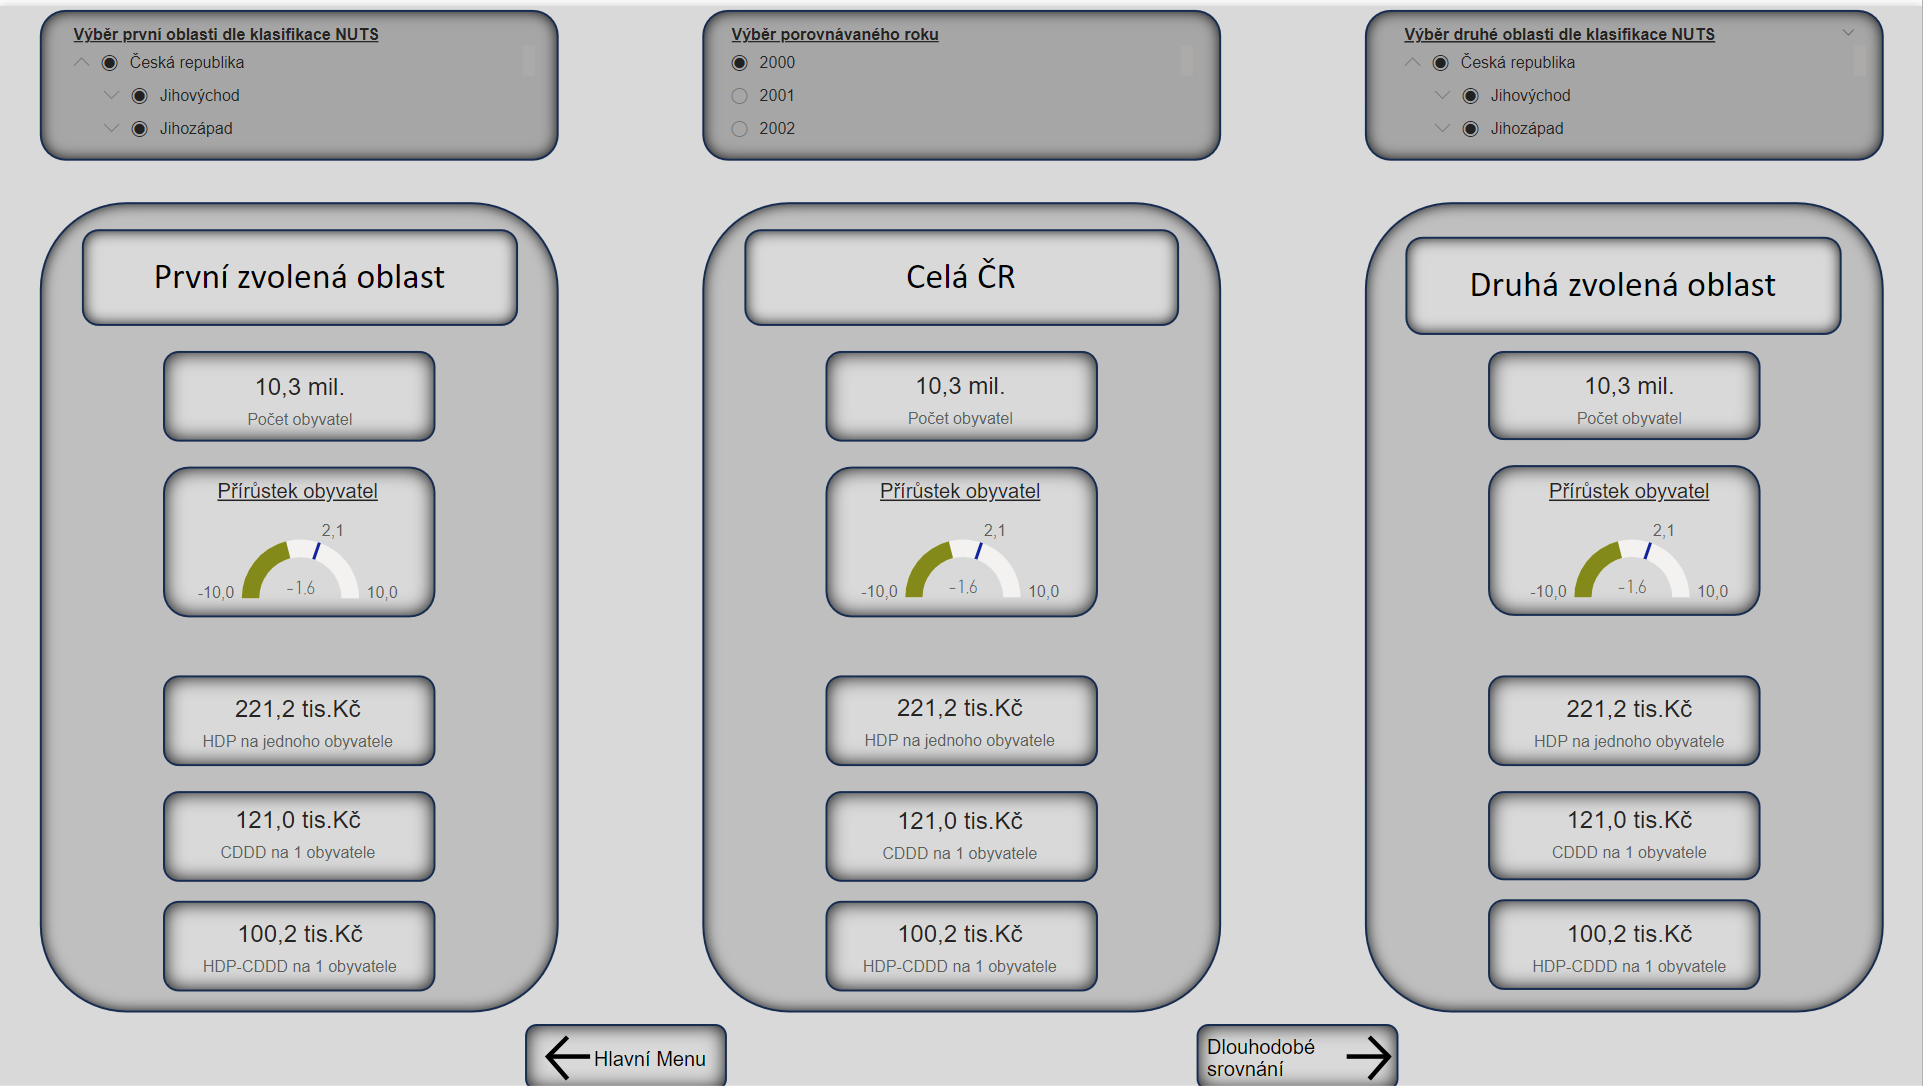

This screenshot's page, from the dashboard's own definition file:
{"tool":"powerbi","page":{"name":"Jednoroční srovnání","canvas":[1280,720],"ordinal":1},"visuals":[{"type":"slicer","fields":{"Values":["NUTS_hierarchie.Nuts_hierarchie.NUTS 1","NUTS_hierarchie.Nuts_hierarchie.NUTS 2","NUTS_hierarchie.Nuts_hierarchie.NUTS 3"]},"box":[36.7,7.3,325.3,88],"z":0},{"type":"slicer","fields":{"Values":["Rok.Rok"]},"box":[474.7,7.3,325,88],"z":1000},{"type":"slicer","fields":{"Values":["NUTS_hierarchie.Nuts_hierarchie.NUTS 1","NUTS_hierarchie.Nuts_hierarchie.NUTS 2","NUTS_hierarchie.Nuts_hierarchie.NUTS 3"]},"box":[922.7,7.3,325.3,88],"z":2000},{"type":"card","fields":{"Values":["Kraj_cddd.CDDD na 1 obyvatele"]},"box":[114,524,170,50.7],"z":3000},{"type":"card","fields":{"Values":["Kraj_HDP.HDP na jednoho obyvatele"]},"box":[114,450,170,50],"z":4000},{"type":"card","fields":{"Values":["Kraj_cddd.HDP-CDDD na 1 obyvatele"]},"box":[115.3,600,170,50],"z":5000},{"type":"card","fields":{"Values":["Kraj_cddd.CDDD na 1 obbyvatele"]},"box":[552,524,175.3,51.3],"z":6000},{"type":"card","fields":{"Values":["Kraj_HDP.HDP na jednoho obyvatele"]},"box":[552,449.3,175.3,50.7],"z":7000},{"type":"card","fields":{"Values":["Kraj_cddd.HDP-CDDD na 1 obyvatele"]},"box":[552,600,175.3,50],"z":8000},{"type":"card","fields":{"Values":["Kraj_cddd.CDDD na 1 obyvatele"]},"box":[998,524,174.7,50.7],"z":9000},{"type":"card","fields":{"Values":["Kraj_HDP.HDP na jednoho obyvatele"]},"box":[998,450,174.7,50.7],"z":10000},{"type":"card","fields":{"Values":["Kraj_cddd.HDP-CDDD na 1 obyvatele"]},"box":[998,600.7,174.7,49.3],"z":11000},{"type":"actionButton","box":[800,680,131.3,40],"z":12000},{"type":"card","fields":{"Values":["Kraj_obyvatelstvo.Obyvatelstvo"]},"box":[112.7,235.3,175.3,50],"z":13000},{"type":"gauge","fields":{"Y":["Kraj_prirustek.Přírůstek obyvatel"]},"box":[110.7,315.3,176.7,88.7],"z":14000},{"type":"card","fields":{"Values":["Kraj_obyvatelstvo.Obyvatelstvo"]},"box":[552.7,234.7,174.7,50.7],"z":15000},{"type":"card","fields":{"Values":["Kraj_obyvatelstvo.Obyvatelstvo"]},"box":[998,234.7,174.7,50.7],"z":16000},{"type":"actionButton","box":[359.3,680,115.3,40],"z":17000},{"type":"gauge","fields":{"Y":["Kraj_prirustek.Přírůstek obyvatel"]},"box":[552,315.3,176,88],"z":18000},{"type":"gauge","fields":{"Y":["Kraj_prirustek.Přírůstek obyvatel"]},"box":[997.3,315.3,176,88],"z":19000}]}

Visuals, with their boxes in screenshot pixels (x1, y1, x2, y2), scaled from the page's 1280x720 canvas onto the 1923x1086 screenshot:
slicer - NUTS_hierarchie.Nuts_hierarchie.NUTS 1 x NUTS_hierarchie.Nuts_hierarchie.NUTS 2: rect(55, 11, 544, 144)
slicer - Rok.Rok: rect(713, 11, 1201, 144)
slicer - NUTS_hierarchie.Nuts_hierarchie.NUTS 1 x NUTS_hierarchie.Nuts_hierarchie.NUTS 2: rect(1386, 11, 1875, 144)
card - Kraj_cddd.CDDD na 1 obyvatele: rect(171, 790, 427, 867)
card - Kraj_HDP.HDP na jednoho obyvatele: rect(171, 679, 427, 754)
card - Kraj_cddd.HDP-CDDD na 1 obyvatele: rect(173, 905, 429, 980)
card - Kraj_cddd.CDDD na 1 obbyvatele: rect(829, 790, 1093, 868)
card - Kraj_HDP.HDP na jednoho obyvatele: rect(829, 678, 1093, 754)
card - Kraj_cddd.HDP-CDDD na 1 obyvatele: rect(829, 905, 1093, 980)
card - Kraj_cddd.CDDD na 1 obyvatele: rect(1499, 790, 1762, 867)
card - Kraj_HDP.HDP na jednoho obyvatele: rect(1499, 679, 1762, 755)
card - Kraj_cddd.HDP-CDDD na 1 obyvatele: rect(1499, 906, 1762, 980)
actionButton: rect(1202, 1026, 1399, 1085)
card - Kraj_obyvatelstvo.Obyvatelstvo: rect(169, 355, 433, 430)
gauge - Kraj_prirustek.Přírůstek obyvatel: rect(166, 476, 432, 609)
card - Kraj_obyvatelstvo.Obyvatelstvo: rect(830, 354, 1093, 430)
card - Kraj_obyvatelstvo.Obyvatelstvo: rect(1499, 354, 1762, 430)
actionButton: rect(540, 1026, 713, 1085)
gauge - Kraj_prirustek.Přírůstek obyvatel: rect(829, 476, 1094, 608)
gauge - Kraj_prirustek.Přírůstek obyvatel: rect(1498, 476, 1763, 608)
